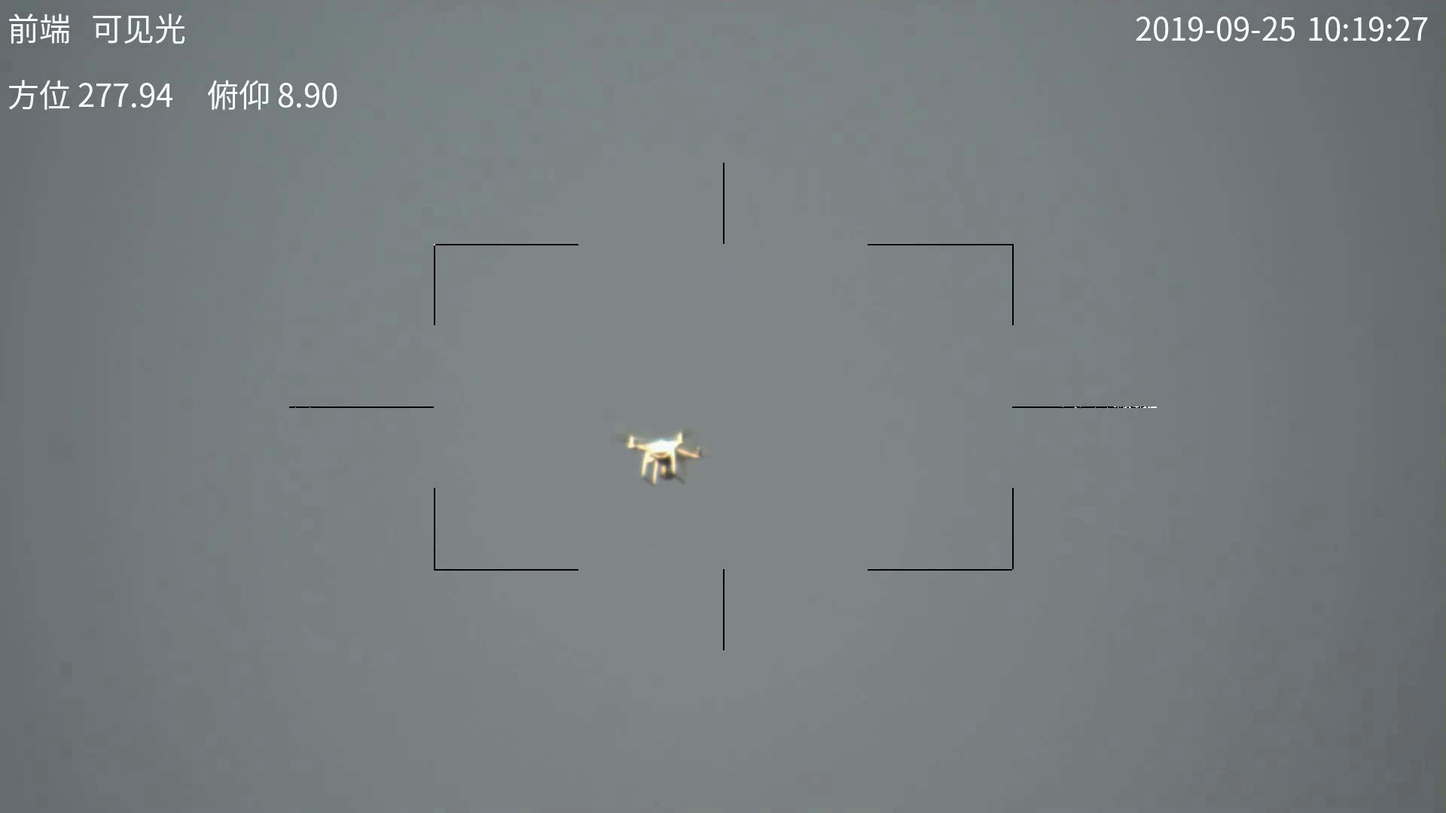drone: (612, 425, 709, 486)
